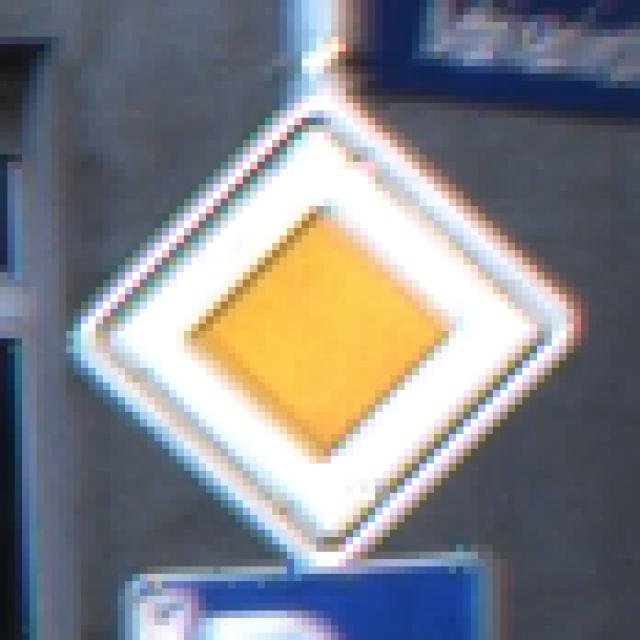Main Road: (60, 60, 589, 589)
